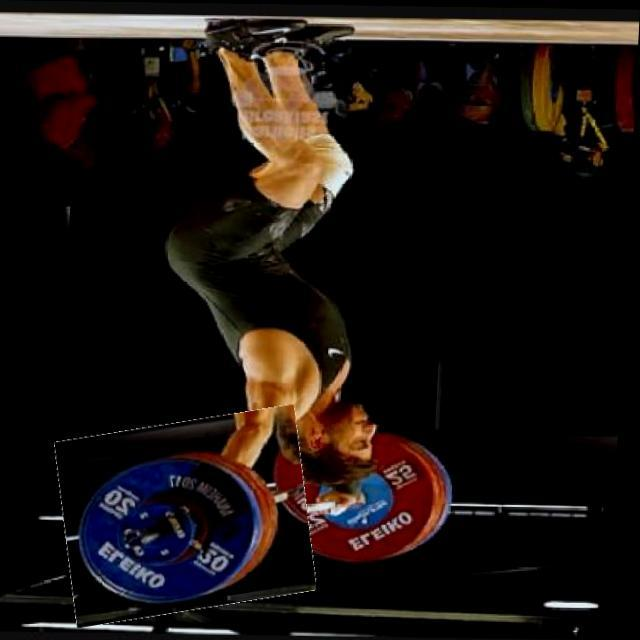barbell: (60, 412, 323, 621)
